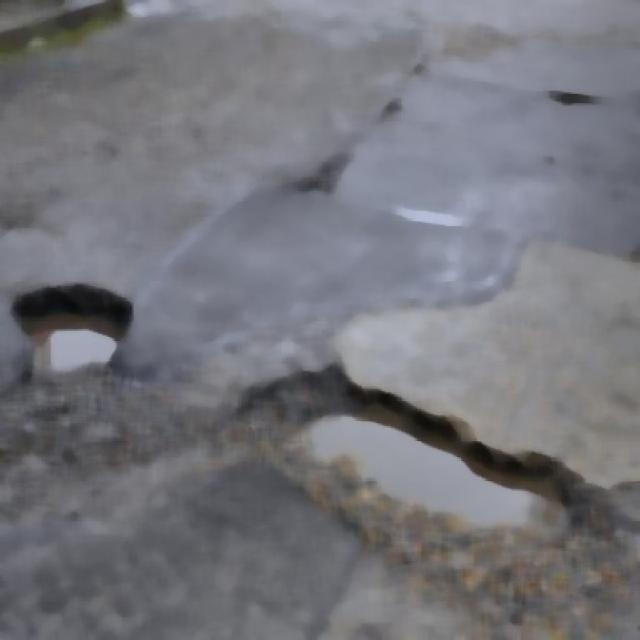Pothole: (302, 380, 569, 538), (17, 287, 118, 378)
